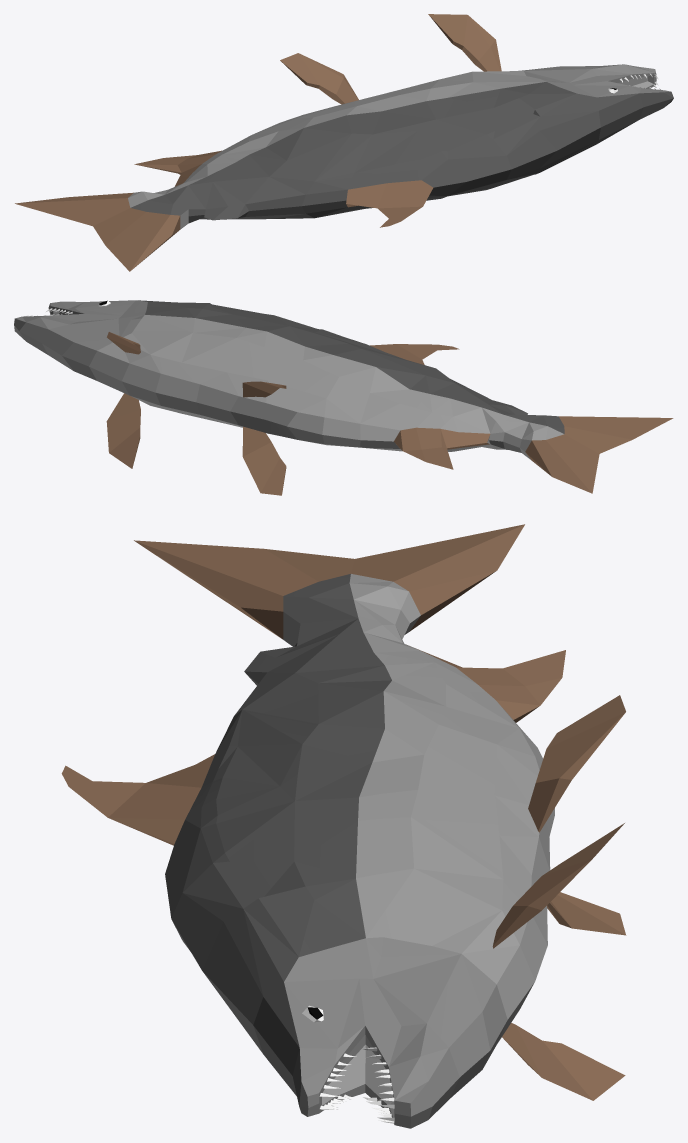
File: Tigerfish.obj
The picture shows the model from 3 angles, top to bottom: view 1: azimuth 30°, elevation 25°; view 2: azimuth 150°, elevation 25°; view 3: azimuth 270°, elevation 25°; orthographic projection. The views are drawn at different scales.
Visible parts, largest first — view 1: Tigerfish_0; view 2: Tigerfish_0; view 3: Tigerfish_0.
Boxes of the visible parts, x1,y1,x2,y2 form: Tigerfish_0: [15, 14, 673, 271]; Tigerfish_0: [14, 300, 673, 495]; Tigerfish_0: [61, 524, 626, 1128].
Bounding box in the file's own units: 1.04 × 0.2072 × 0.4189.
Materials: 1 (1 with a texture image).
